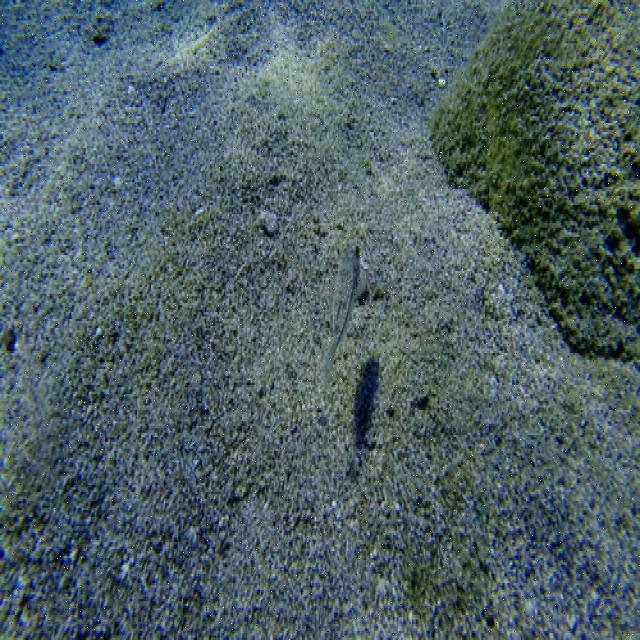Balik: (325, 246, 360, 380)
